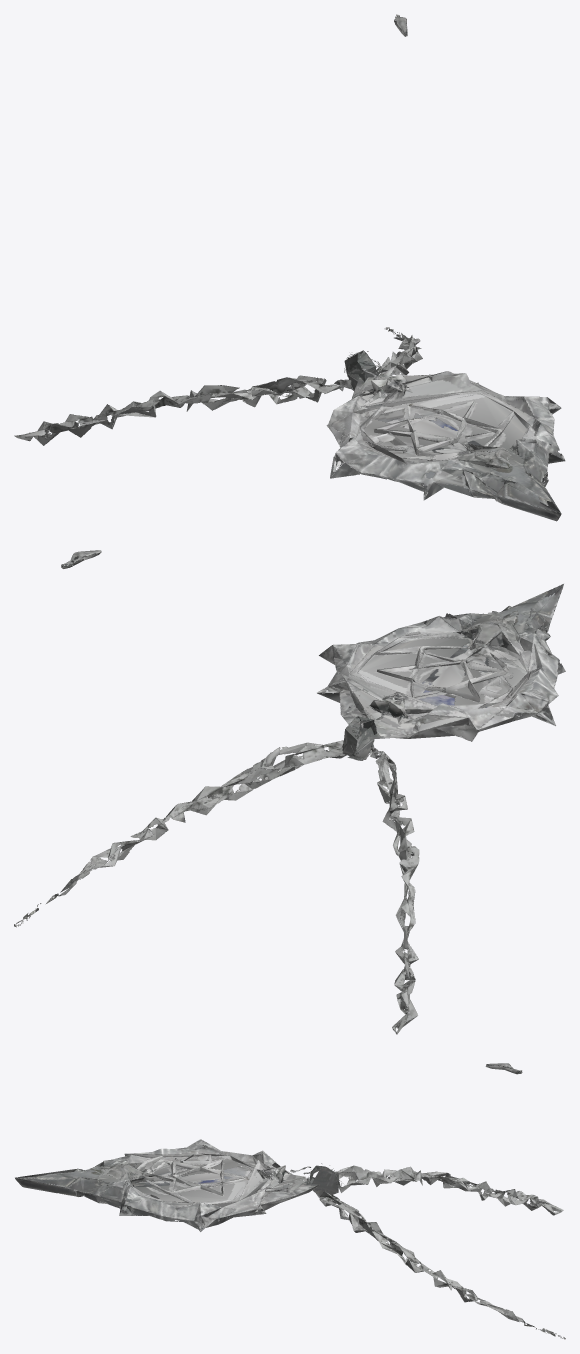
Rendered from medallion_necklace_LOD2.fbx.
3 views of the same model, one above another, from view 1: azimuth 30°, elevation 25°; view 2: azimuth 150°, elevation 25°; view 3: azimuth 270°, elevation 25° (orthographic). The views are drawn at different scales.
Parts seen in each view (by area): view 1: medallion_necklace_LOD2; view 2: medallion_necklace_LOD2; view 3: medallion_necklace_LOD2.
Part boxes in pixels (box(x1,y1,x2,y2)): medallion_necklace_LOD2: box(14, 14, 565, 521); medallion_necklace_LOD2: box(14, 550, 565, 1034); medallion_necklace_LOD2: box(15, 1063, 565, 1339).
Bounding box in the file's own units: 0.5651 × 0.511 × 0.9111.
Materials: 1 (1 with a texture image).
